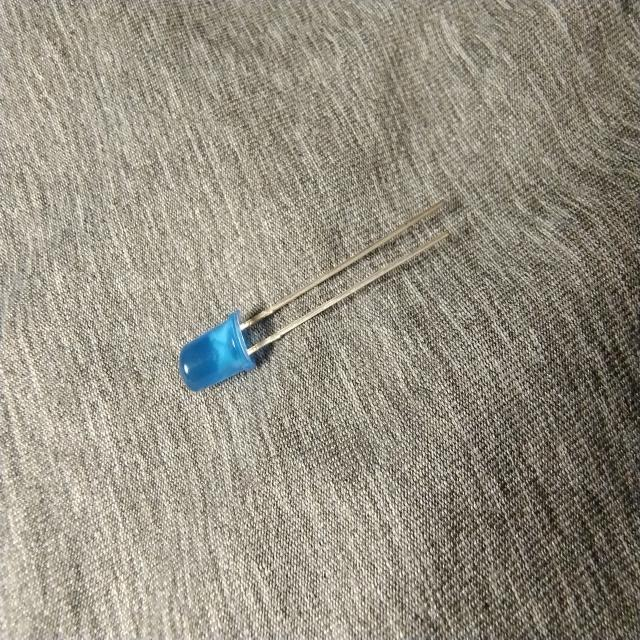blue_led: (178, 197, 450, 393)
